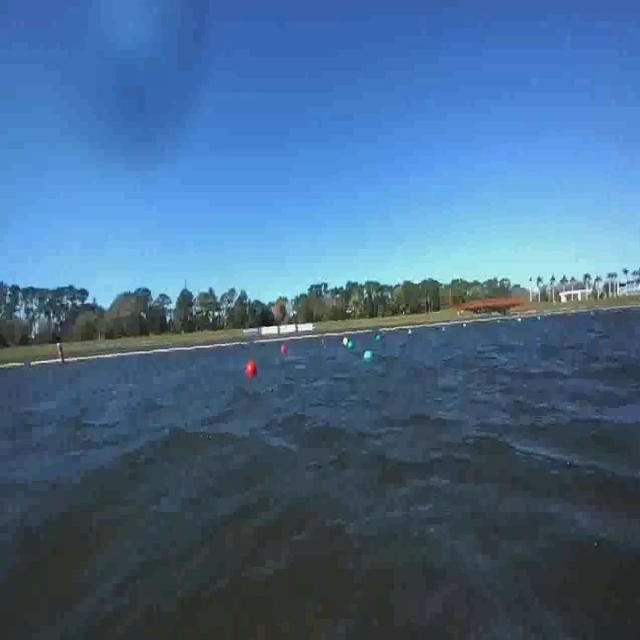green-buoy: (362, 346, 374, 368), (348, 342, 356, 354)
red-buoy: (246, 359, 258, 378), (282, 345, 287, 354)
